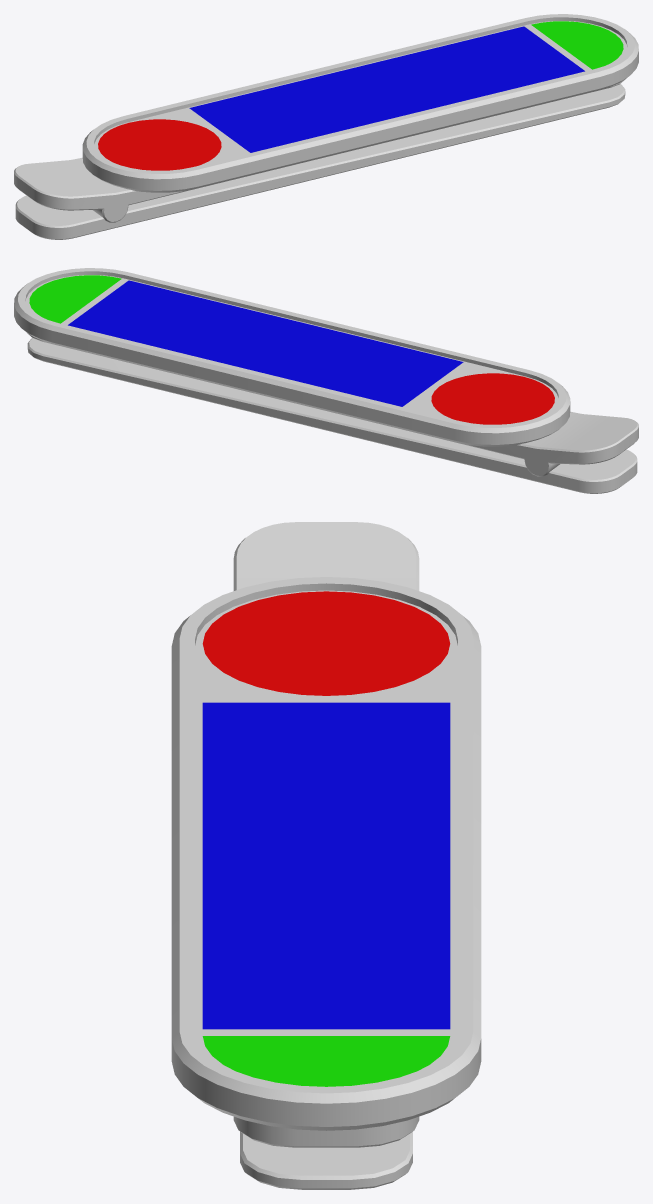
The model's file is AudioHairClip.fbx.
3 renders of one model, top to bottom at view 1: azimuth 30°, elevation 25°; view 2: azimuth 150°, elevation 25°; view 3: azimuth 270°, elevation 25°, orthographic. The views are drawn at different scales.
Parts seen in each view (by area): view 1: Display, HairClip1, HairClip2; view 2: Display, HairClip1, HairClip2; view 3: Display, HairClip1, HairClip2.
Part boxes in pixels (x1=…): Display: x1=98, y1=21, x2=623, y2=170; HairClip1: x1=14, y1=14, x2=638, y2=222; HairClip2: x1=15, y1=84, x2=625, y2=239; Display: x1=29, y1=275, x2=554, y2=424; HairClip1: x1=14, y1=268, x2=638, y2=476; HairClip2: x1=27, y1=338, x2=637, y2=493; Display: x1=202, y1=591, x2=450, y2=1086; HairClip1: x1=171, y1=522, x2=481, y2=1147; HairClip2: x1=240, y1=1131, x2=412, y2=1189.
Size of the model in its own units: 0.045 by 0.00383 by 0.01.
